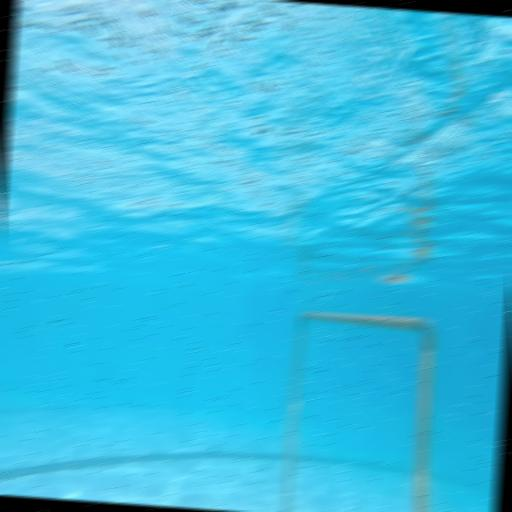gate: (280, 308, 441, 512)
